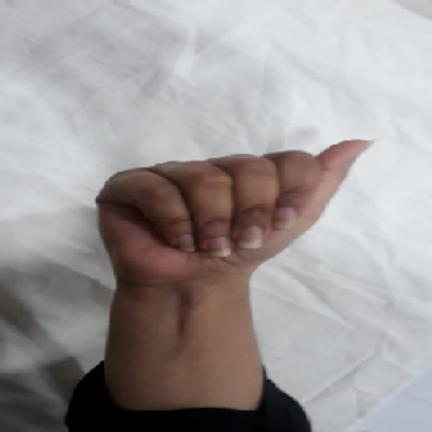Nail: (235, 225, 263, 249), (273, 208, 297, 230), (207, 236, 231, 257), (179, 234, 196, 252)
